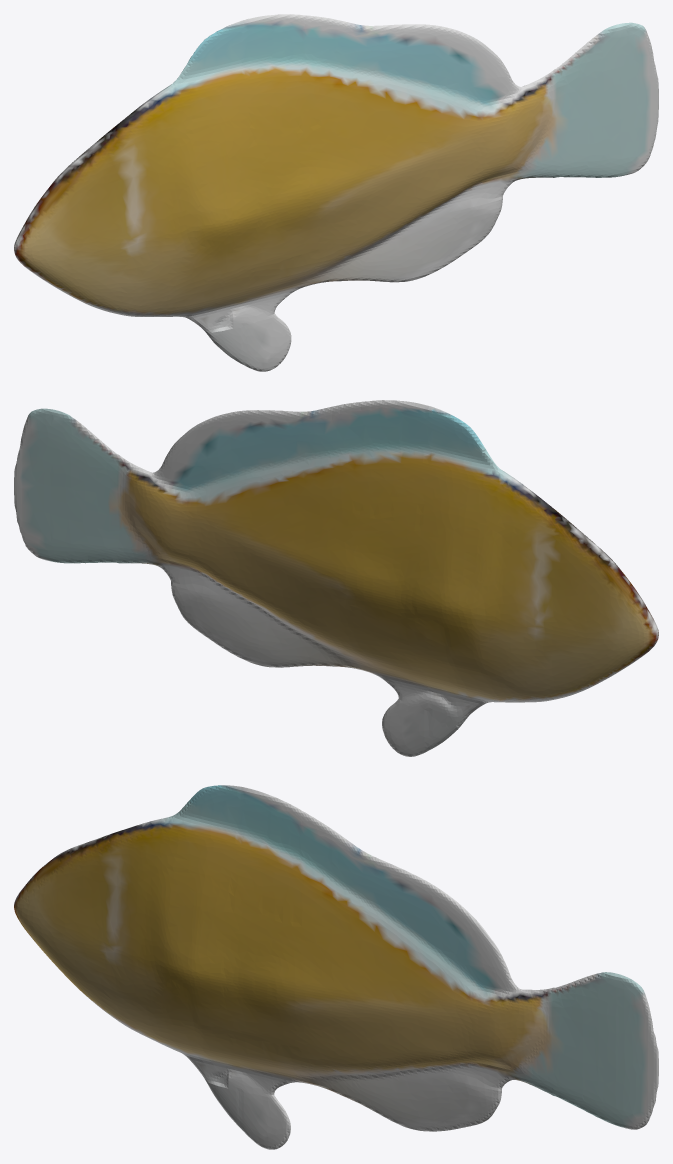
The model's file is fish_4.glb.
3 renders of one model, top to bottom at view 1: azimuth 30°, elevation 25°; view 2: azimuth 150°, elevation 25°; view 3: azimuth 330°, elevation 25°, orthographic.
Visible parts, largest first — view 1: geometry_0; view 2: geometry_0; view 3: geometry_0.
Part boxes in pixels (bbox=[...]): geometry_0: bbox=[14, 14, 658, 371]; geometry_0: bbox=[14, 400, 658, 756]; geometry_0: bbox=[14, 785, 658, 1149].
Bounding box in the file's own units: 0.9375 × 0.4961 × 0.0982.
